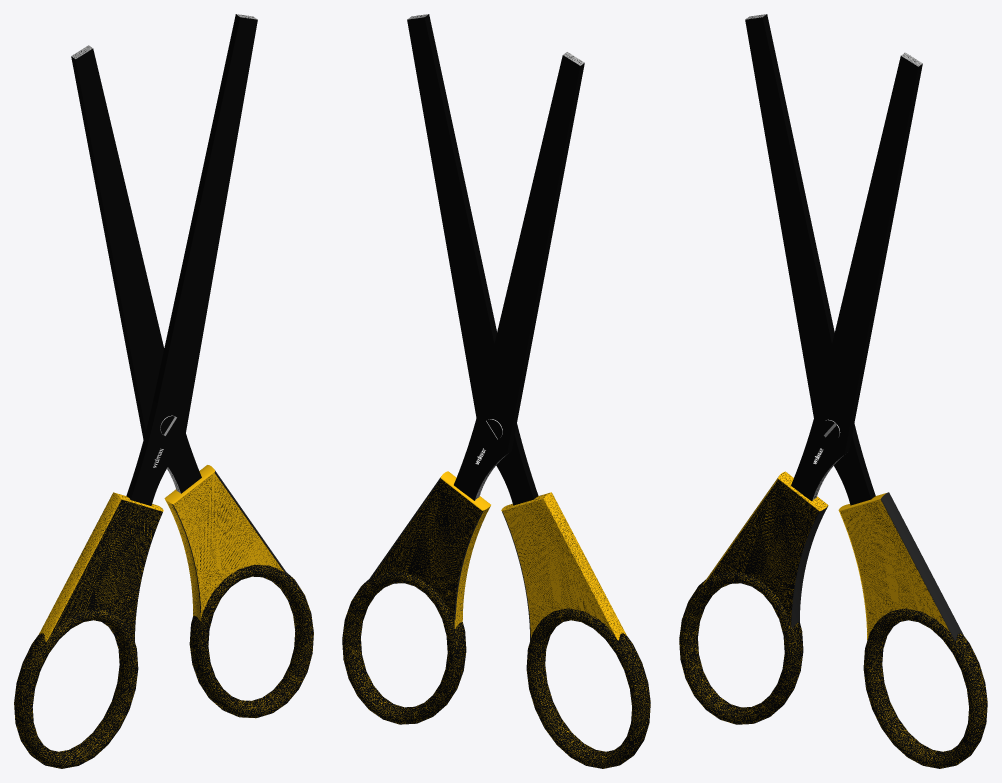
Rendered from scissors_08_origin_gt_1.dae.
3 renders of one model, left to right at view 1: azimuth 30°, elevation 25°; view 2: azimuth 150°, elevation 25°; view 3: azimuth 330°, elevation 25°, orthographic.
Parts seen in each view (by area): view 1: tijeras (×7); view 2: tijeras (×7); view 3: tijeras (×8).
Part boxes in pixels (<box>): tijeras (×7): <box>14,14,313,768</box>; tijeras (×7): <box>342,14,650,768</box>; tijeras (×8): <box>679,14,987,768</box>.
Bounding box in the file's own units: 3.05 × 0.2863 × 6.9.
5 materials, 2 textured.
